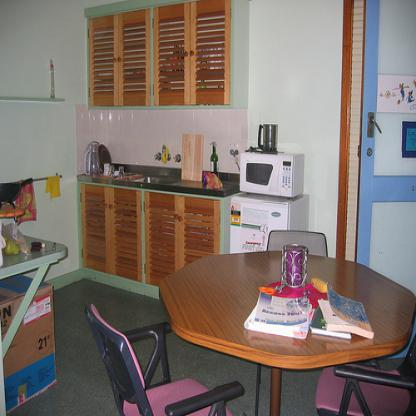bottle: (207, 138, 220, 180)
chair: (83, 301, 246, 415), (312, 328, 415, 415), (266, 228, 327, 258)
